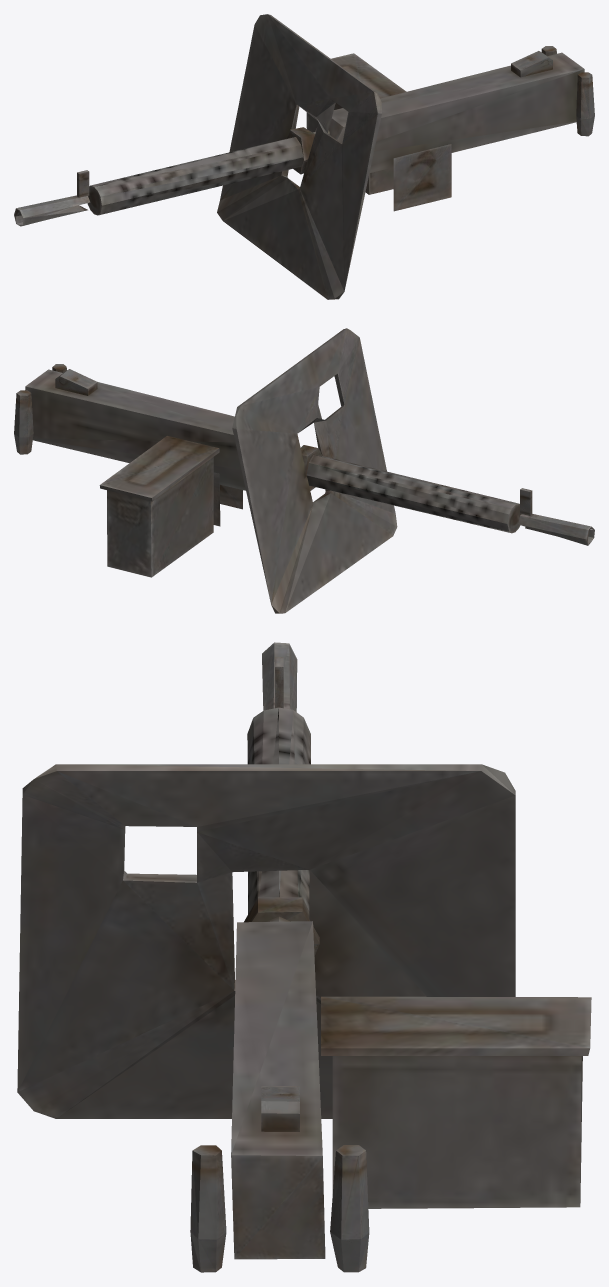
The model's file is car_s_gun_barrel.glb.
The picture shows the model from 3 angles, top to bottom: view 1: azimuth 30°, elevation 25°; view 2: azimuth 150°, elevation 25°; view 3: azimuth 270°, elevation 25°; orthographic projection. The views are drawn at different scales.
Visible parts, largest first — view 1: geometry_0; view 2: geometry_0; view 3: geometry_0.
Boxes of the visible parts, x1,y1,x2,y2 form: geometry_0: (14, 14, 594, 299); geometry_0: (14, 328, 594, 613); geometry_0: (17, 642, 591, 1272).
Size of the model in its own units: 0.957 by 0.3247 by 0.4277.
Materials: 1 (1 with a texture image).
